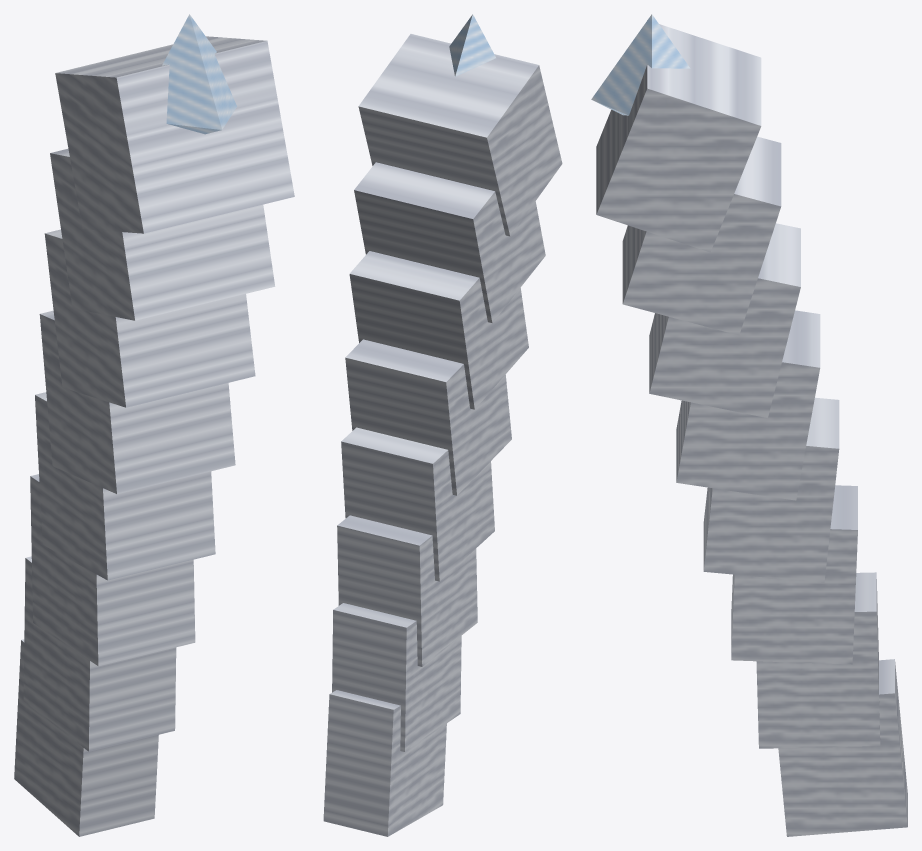
The model's file is rival_seren_tail.obj.
The picture shows the model from 3 angles, left to right: view 1: azimuth 30°, elevation 25°; view 2: azimuth 150°, elevation 25°; view 3: azimuth 270°, elevation 25°; orthographic projection. The views are drawn at different scales.
Parts seen in each view (by area): view 1: rival_seren_tail; view 2: rival_seren_tail; view 3: rival_seren_tail.
Boxes of the visible parts, box(x1,y1,x2,y2) form: rival_seren_tail: box(14, 14, 294, 836); rival_seren_tail: box(323, 14, 562, 836); rival_seren_tail: box(591, 14, 907, 836).
Size of the model in its own units: 0.15 by 0.8234 by 0.2933.
